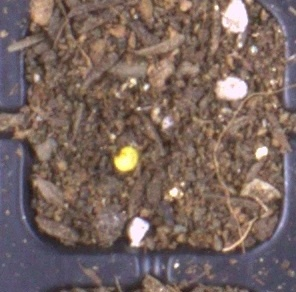chilli seed: (112, 145, 139, 172)
